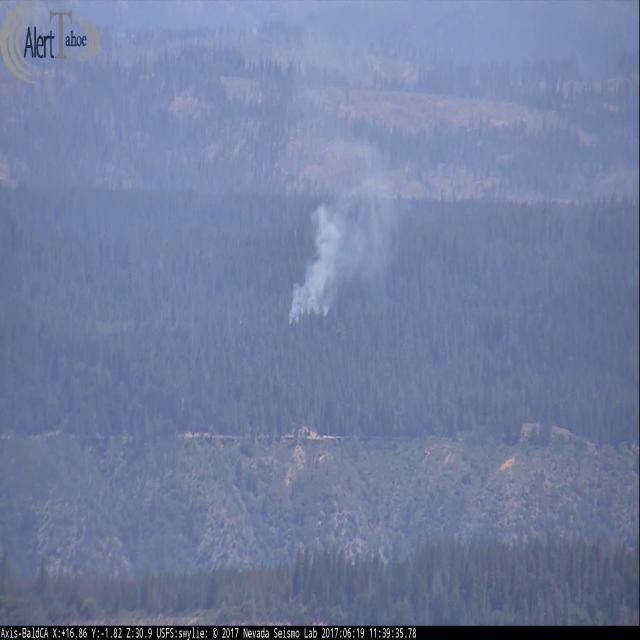smoke: (273, 0, 416, 329)
